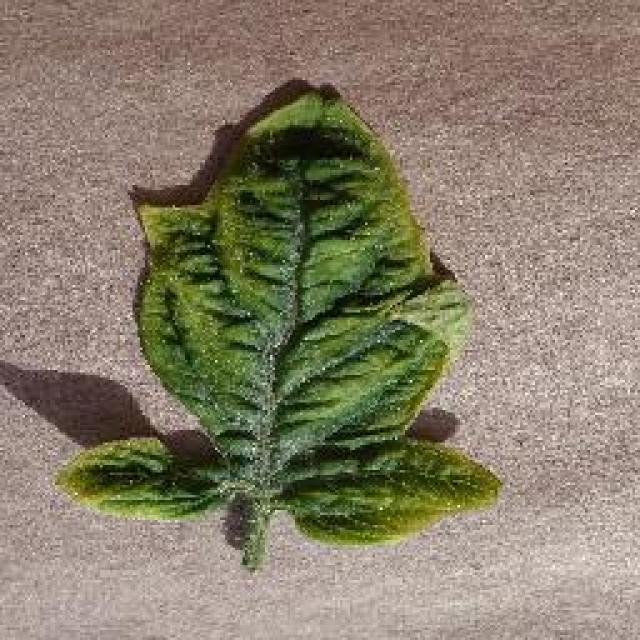Tomato yellow virus leaf: (131, 91, 507, 552), (51, 435, 238, 522)
